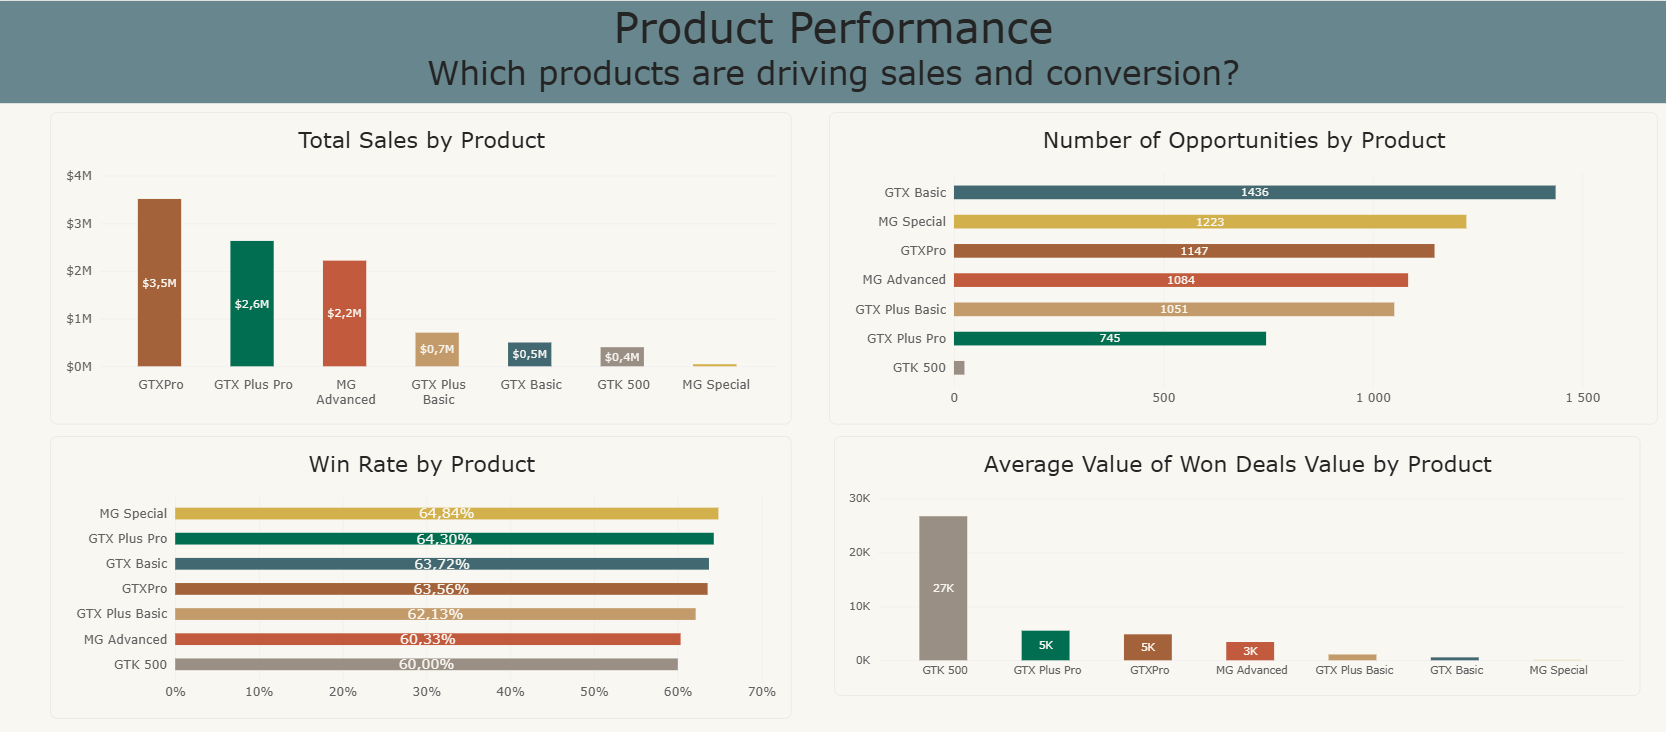

This screenshot's page, from the dashboard's own definition file:
{"tool":"powerbi","page":{"name":"Product Performance","canvas":[1920,1080],"ordinal":2},"visuals":[{"type":"textbox","box":[10,0,1910,117.1],"z":0},{"type":"columnChart","title":"Total Sales by Product","fields":{"Category":["pipeline_sales sales_pipeline.product"],"Series":["pipeline_sales sales_pipeline.product"],"Y":["pipeline_sales sales_pipeline.Total Sales"]},"box":[70,127.1,847.1,357.1],"z":1000},{"type":"barChart","title":"Number of Opportunities by Product","fields":{"Category":["pipeline_sales sales_pipeline.product"],"Series":["pipeline_sales sales_pipeline.product"],"Y":["CountNonNull(pipeline_sales sales_pipeline.opportunity_id)"]},"box":[960,127.1,947.1,357.1],"z":2000},{"type":"barChart","title":"Win Rate by Product ","fields":{"Category":["pipeline_sales sales_pipeline.product"],"Series":["pipeline_sales sales_pipeline.product"],"Y":["pipeline_sales sales_pipeline.Win Rate"]},"box":[70,497.1,847.1,322.9],"z":3000},{"type":"columnChart","title":"Average Value of Won Deals Value by Product","fields":{"Category":["pipeline_sales sales_pipeline.product"],"Series":["pipeline_sales sales_pipeline.product"],"Y":["pipeline_sales sales_pipeline.Avg Deal Value Won"]},"box":[965.7,497.1,921.4,297.1],"z":4000}]}

Visuals, with their boxes on the page's 1920x1080 design canvas (x1, y1, x2, y2). These are canvas units, not pixel positions in the 1666x732 screenshot, which may show the page scaled, cropped or inside an application window:
textbox: [x1=10, y1=0, x2=1920, y2=117]
"Total Sales by Product" columnChart: [x1=70, y1=127, x2=917, y2=484]
"Number of Opportunities by Product" barChart: [x1=960, y1=127, x2=1907, y2=484]
"Win Rate by Product " barChart: [x1=70, y1=497, x2=917, y2=820]
"Average Value of Won Deals Value by Product" columnChart: [x1=966, y1=497, x2=1887, y2=794]
